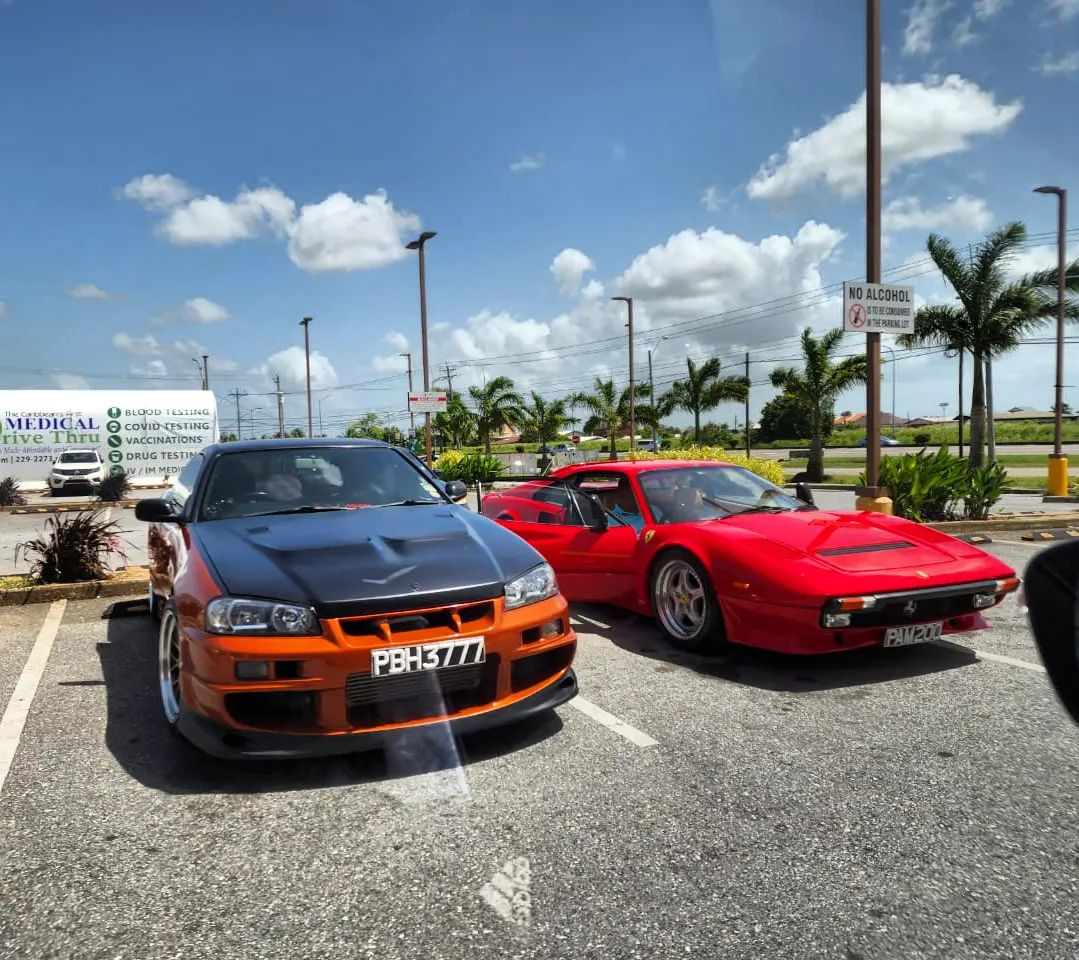License-Plate: (369, 649, 484, 677), (882, 628, 941, 647)
